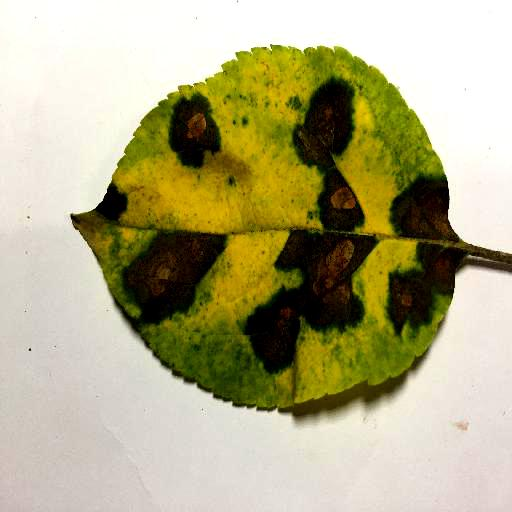Brown_Spot: (242, 221, 366, 380), (269, 76, 383, 230), (112, 219, 216, 322), (381, 237, 454, 332), (162, 101, 231, 179), (383, 176, 453, 239)
